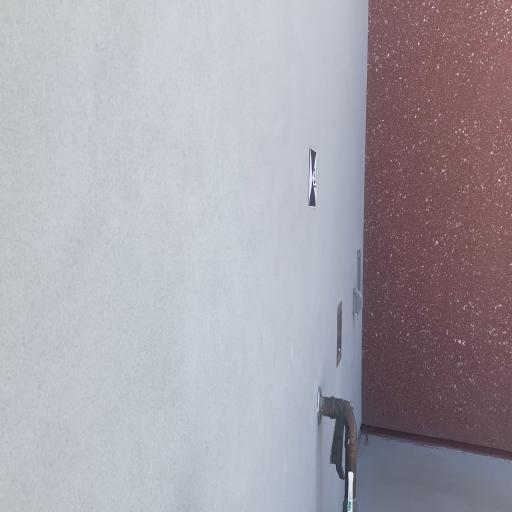target3: (308, 147, 317, 208)
